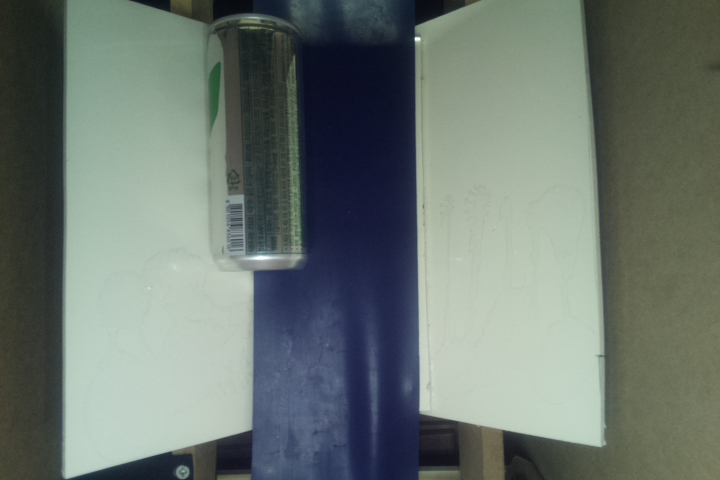can: (202, 16, 306, 272)
